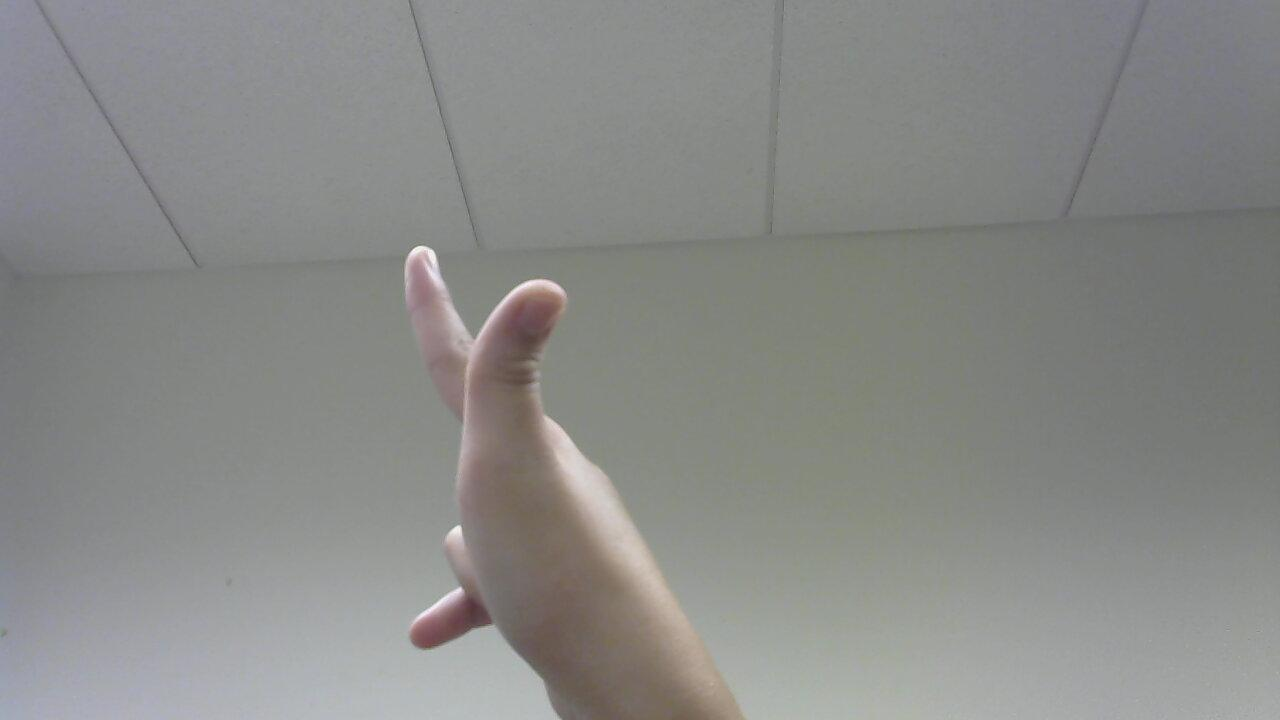hands: (388, 227, 678, 720)
